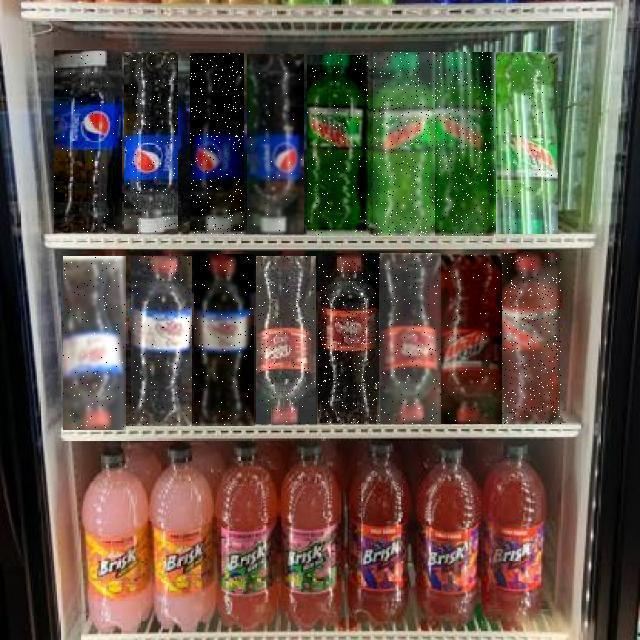Drinks: (55, 50, 123, 233), (434, 52, 496, 236), (373, 52, 435, 236), (497, 52, 559, 234), (308, 56, 370, 236), (64, 256, 128, 430), (379, 253, 441, 424), (318, 253, 380, 424), (441, 254, 503, 424), (131, 256, 192, 426), (194, 254, 254, 426), (247, 55, 304, 235), (502, 253, 562, 424), (256, 256, 316, 424), (125, 52, 179, 234), (191, 54, 245, 236)
